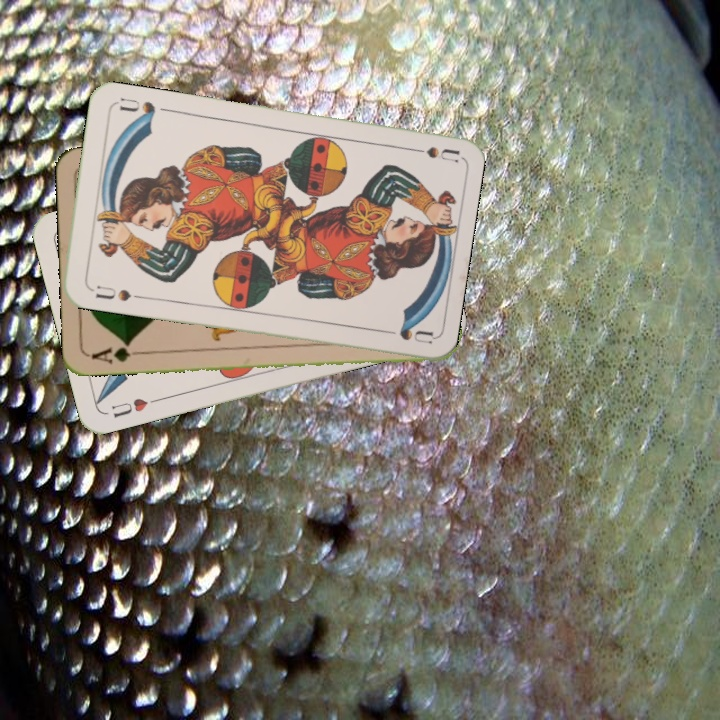GA: (87, 339, 146, 367)
HU: (107, 394, 161, 420)
SU: (85, 281, 144, 304), (400, 143, 460, 164)
